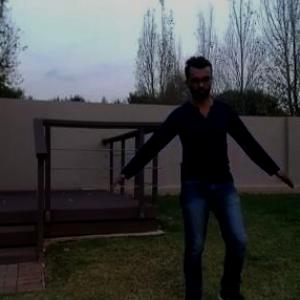land: (137, 72, 273, 299)
